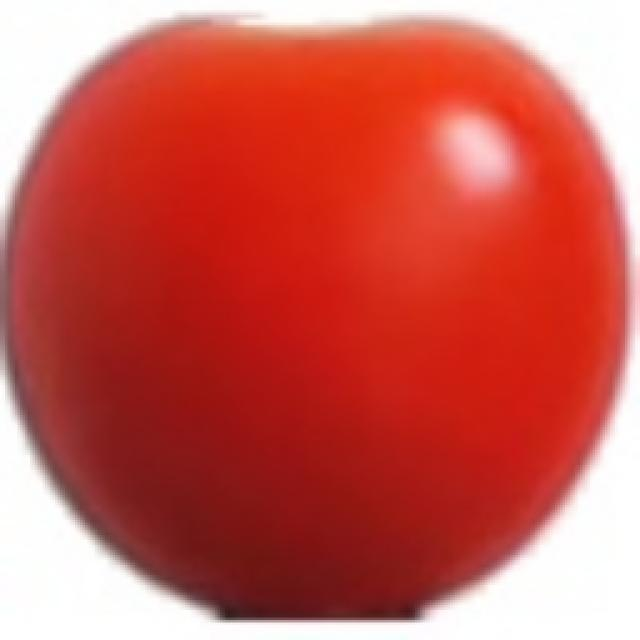tomato: (0, 19, 631, 623)
